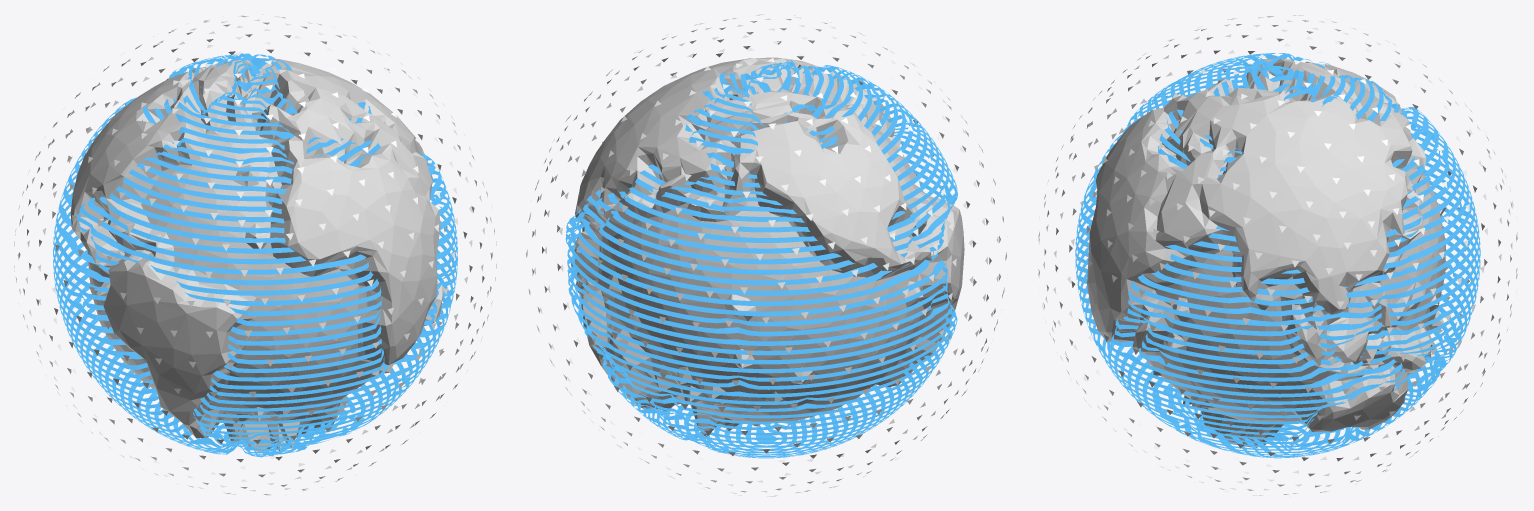
The picture shows the model from 3 angles, left to right: view 1: azimuth 30°, elevation 25°; view 2: azimuth 150°, elevation 25°; view 3: azimuth 270°, elevation 25°; orthographic projection.
Visible parts, largest first — view 1: TERRE1, Sphere.002, Circle.455; view 2: TERRE1, Sphere.002, Circle.455; view 3: TERRE1, Sphere.002, Circle.455.
Part boxes in pixels (left/top/right/bottom): TERRE1: left=70, top=58, right=443, bottom=451; Sphere.002: left=53, top=53, right=457, bottom=457; Circle.455: left=14, top=14, right=496, bottom=495; TERRE1: left=571, top=57, right=964, bottom=436; Sphere.002: left=565, top=60, right=957, bottom=458; Circle.455: left=526, top=14, right=1007, bottom=496; TERRE1: left=1087, top=58, right=1446, bottom=447; Sphere.002: left=1075, top=53, right=1480, bottom=458; Circle.455: left=1038, top=15, right=1517, bottom=496.
Bounding box in the file's own units: 7.97 × 7.98 × 7.99.
